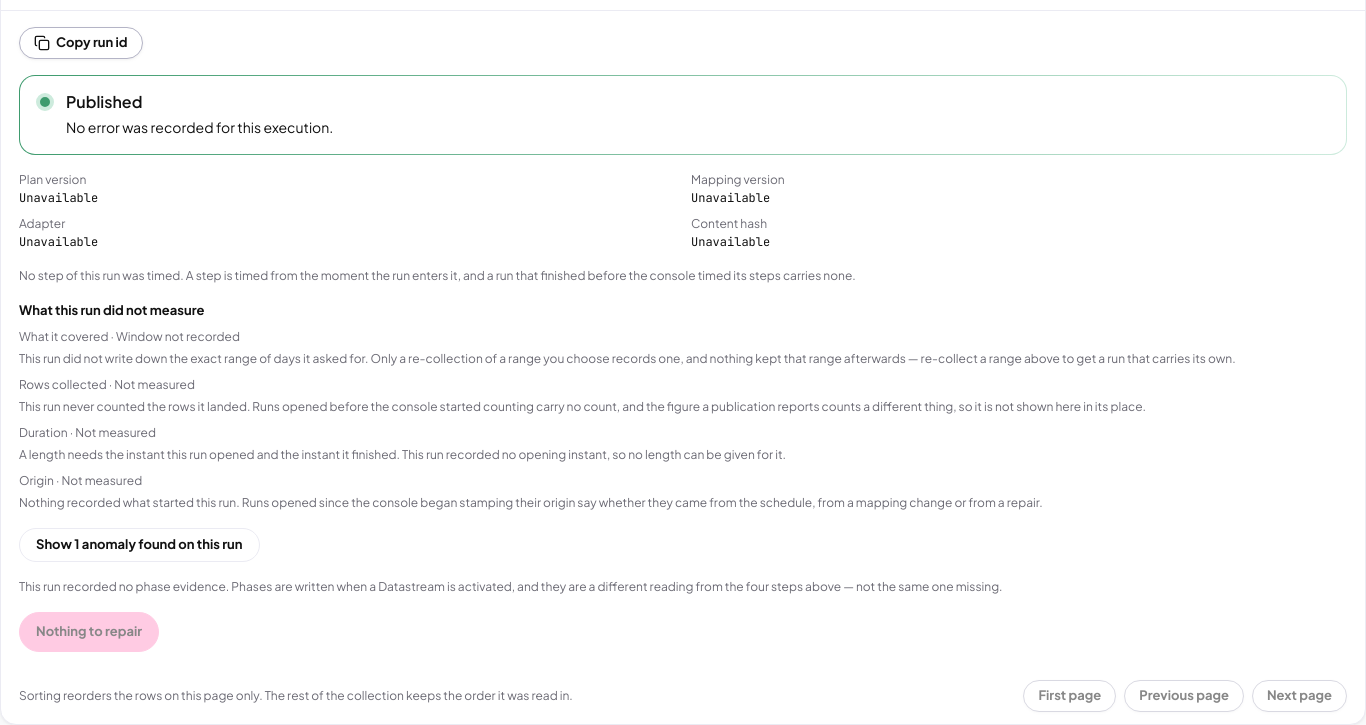
Runs tab — the anomaly panel, story 59.1 › a profile with no replayable rows shows its sentence, no table and no Download
The image size is (1366, 725).
(page scrolled)
Click the button with test id "run-anomalies-trigger" at x=139, y=545, box [19,528,260,562]
(page scrolled)
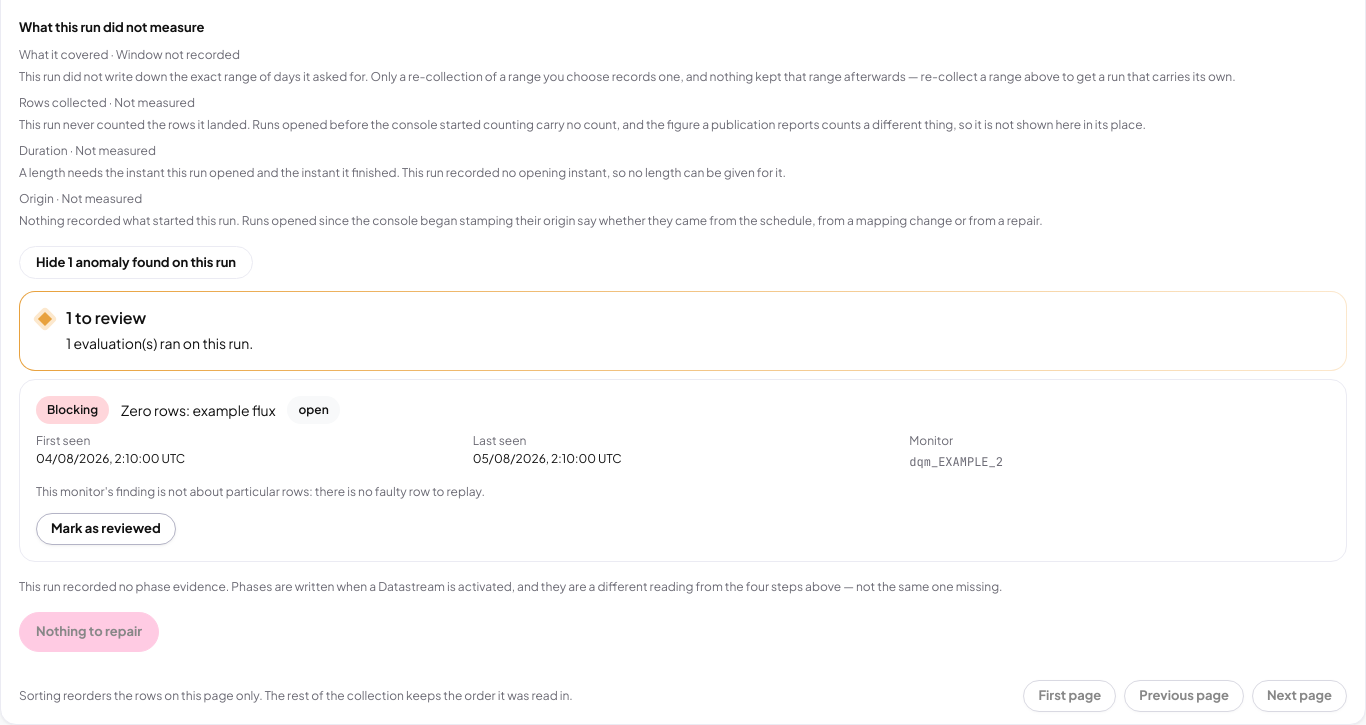
Result: the text with test id "run-anomaly-no-rows" shows "This monitor's finding is not about particular rows: there is no faulty row to replay." at [36,484,485,499]
